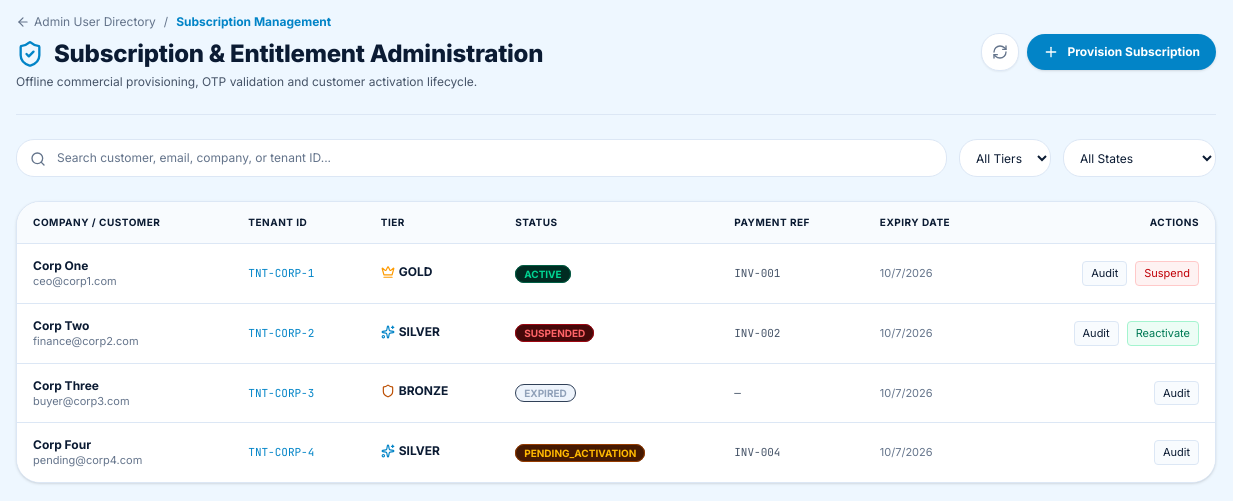
Test: AdminSubscriptionsPage Dashboard › filters subscriptions by search query, tier, and status
Expected: the text "Corp One" is shown, [33,258,88,273]
Type "Corp Two" into the field with placeholder "Search customer, email, company, or tenant ID..." at (482, 158), box [16,139,947,177]
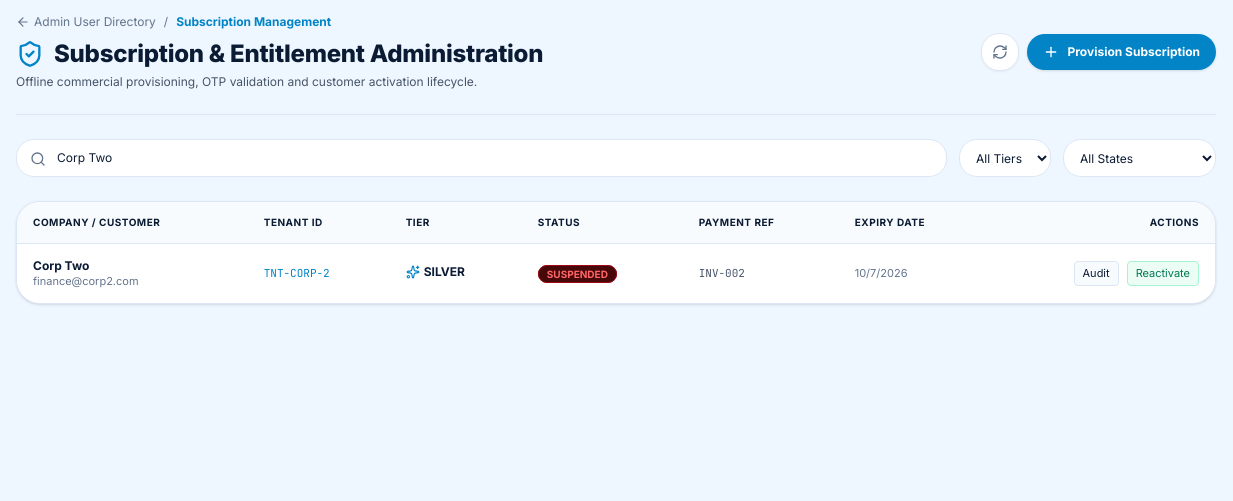
Expected: the text "Corp Two" is shown, [33,258,89,273]
Expected: the text "Corp One" is gone
// Clear search
Clear the field with placeholder "Search customer, email, company, or tenant ID..." at (482, 158), box [16,139,947,177]
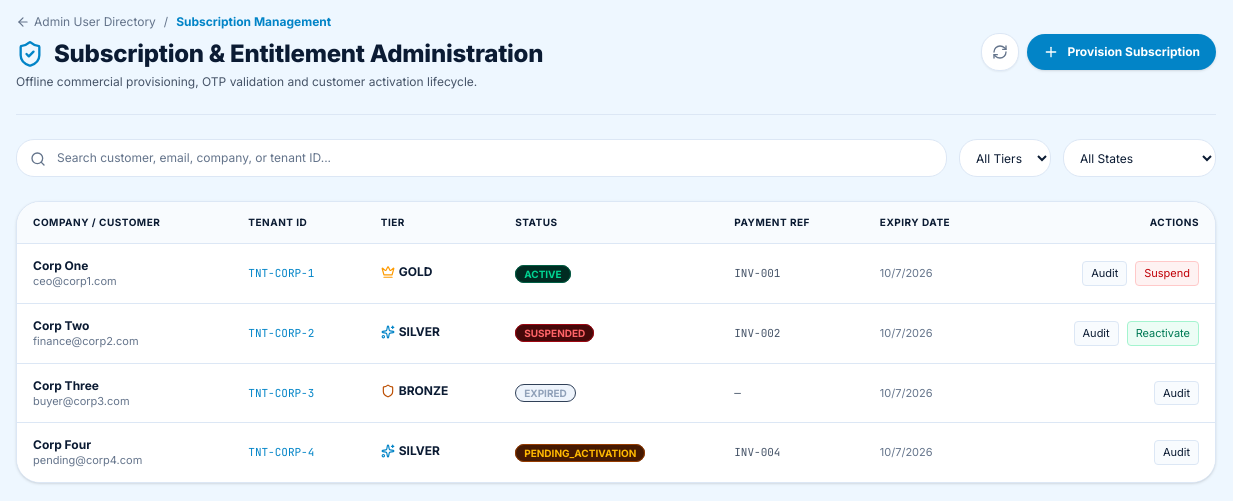
// Filter by tier
Select "Gold" in the 1st dropdown showing "All Tiers" at (1005, 158), box [959,139,1051,177]
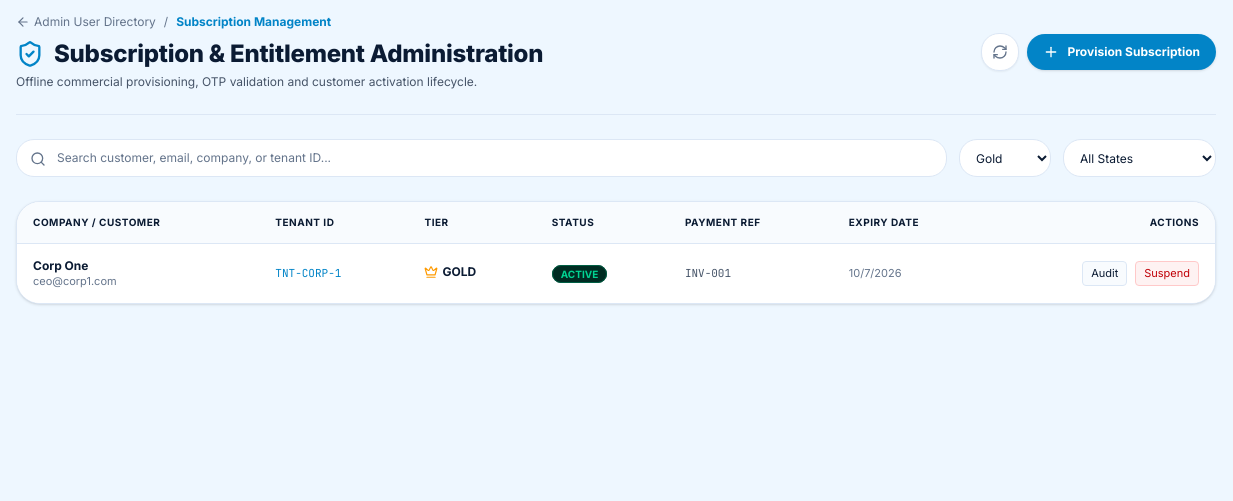
Expected: the text "Corp One" is shown, [33,258,88,273]
Expected: the text "Corp Two" is gone
// Filter by status
Select "All Tiers" in the 1st dropdown showing "All Tiers" at (1005, 158), box [959,139,1051,177]
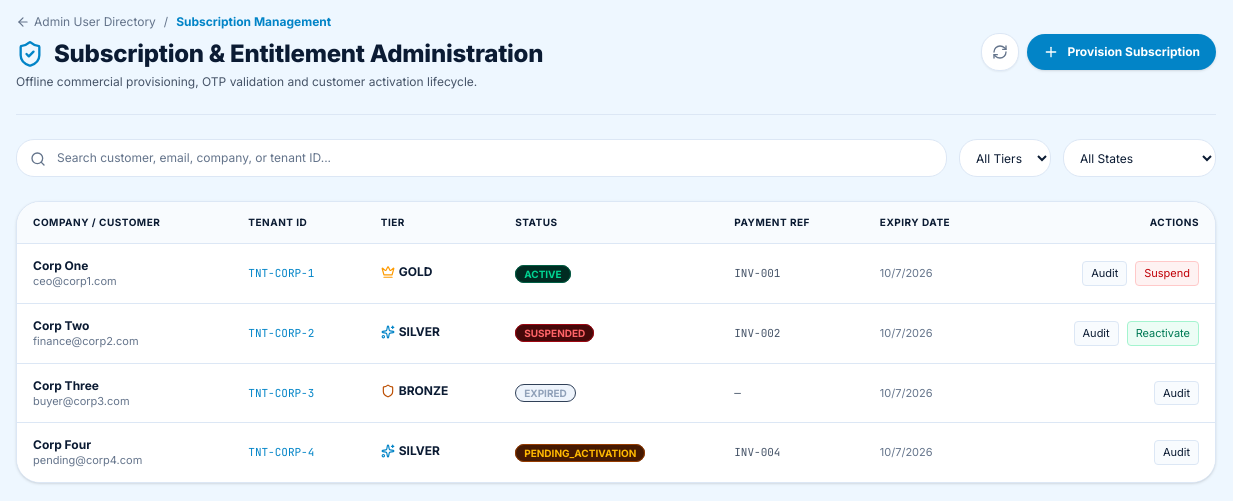
Select "Suspended" in the 2nd dropdown showing "All States" at (1140, 158), box [1063,139,1216,177]
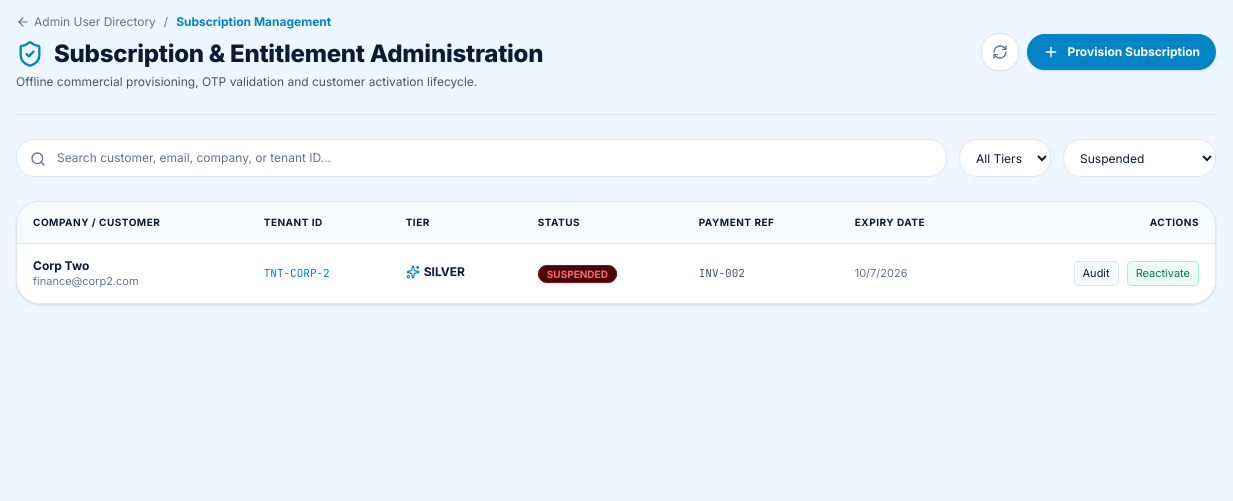
Expected: the text "Corp Two" is shown, [33,258,89,273]
Expected: the text "Corp One" is gone
